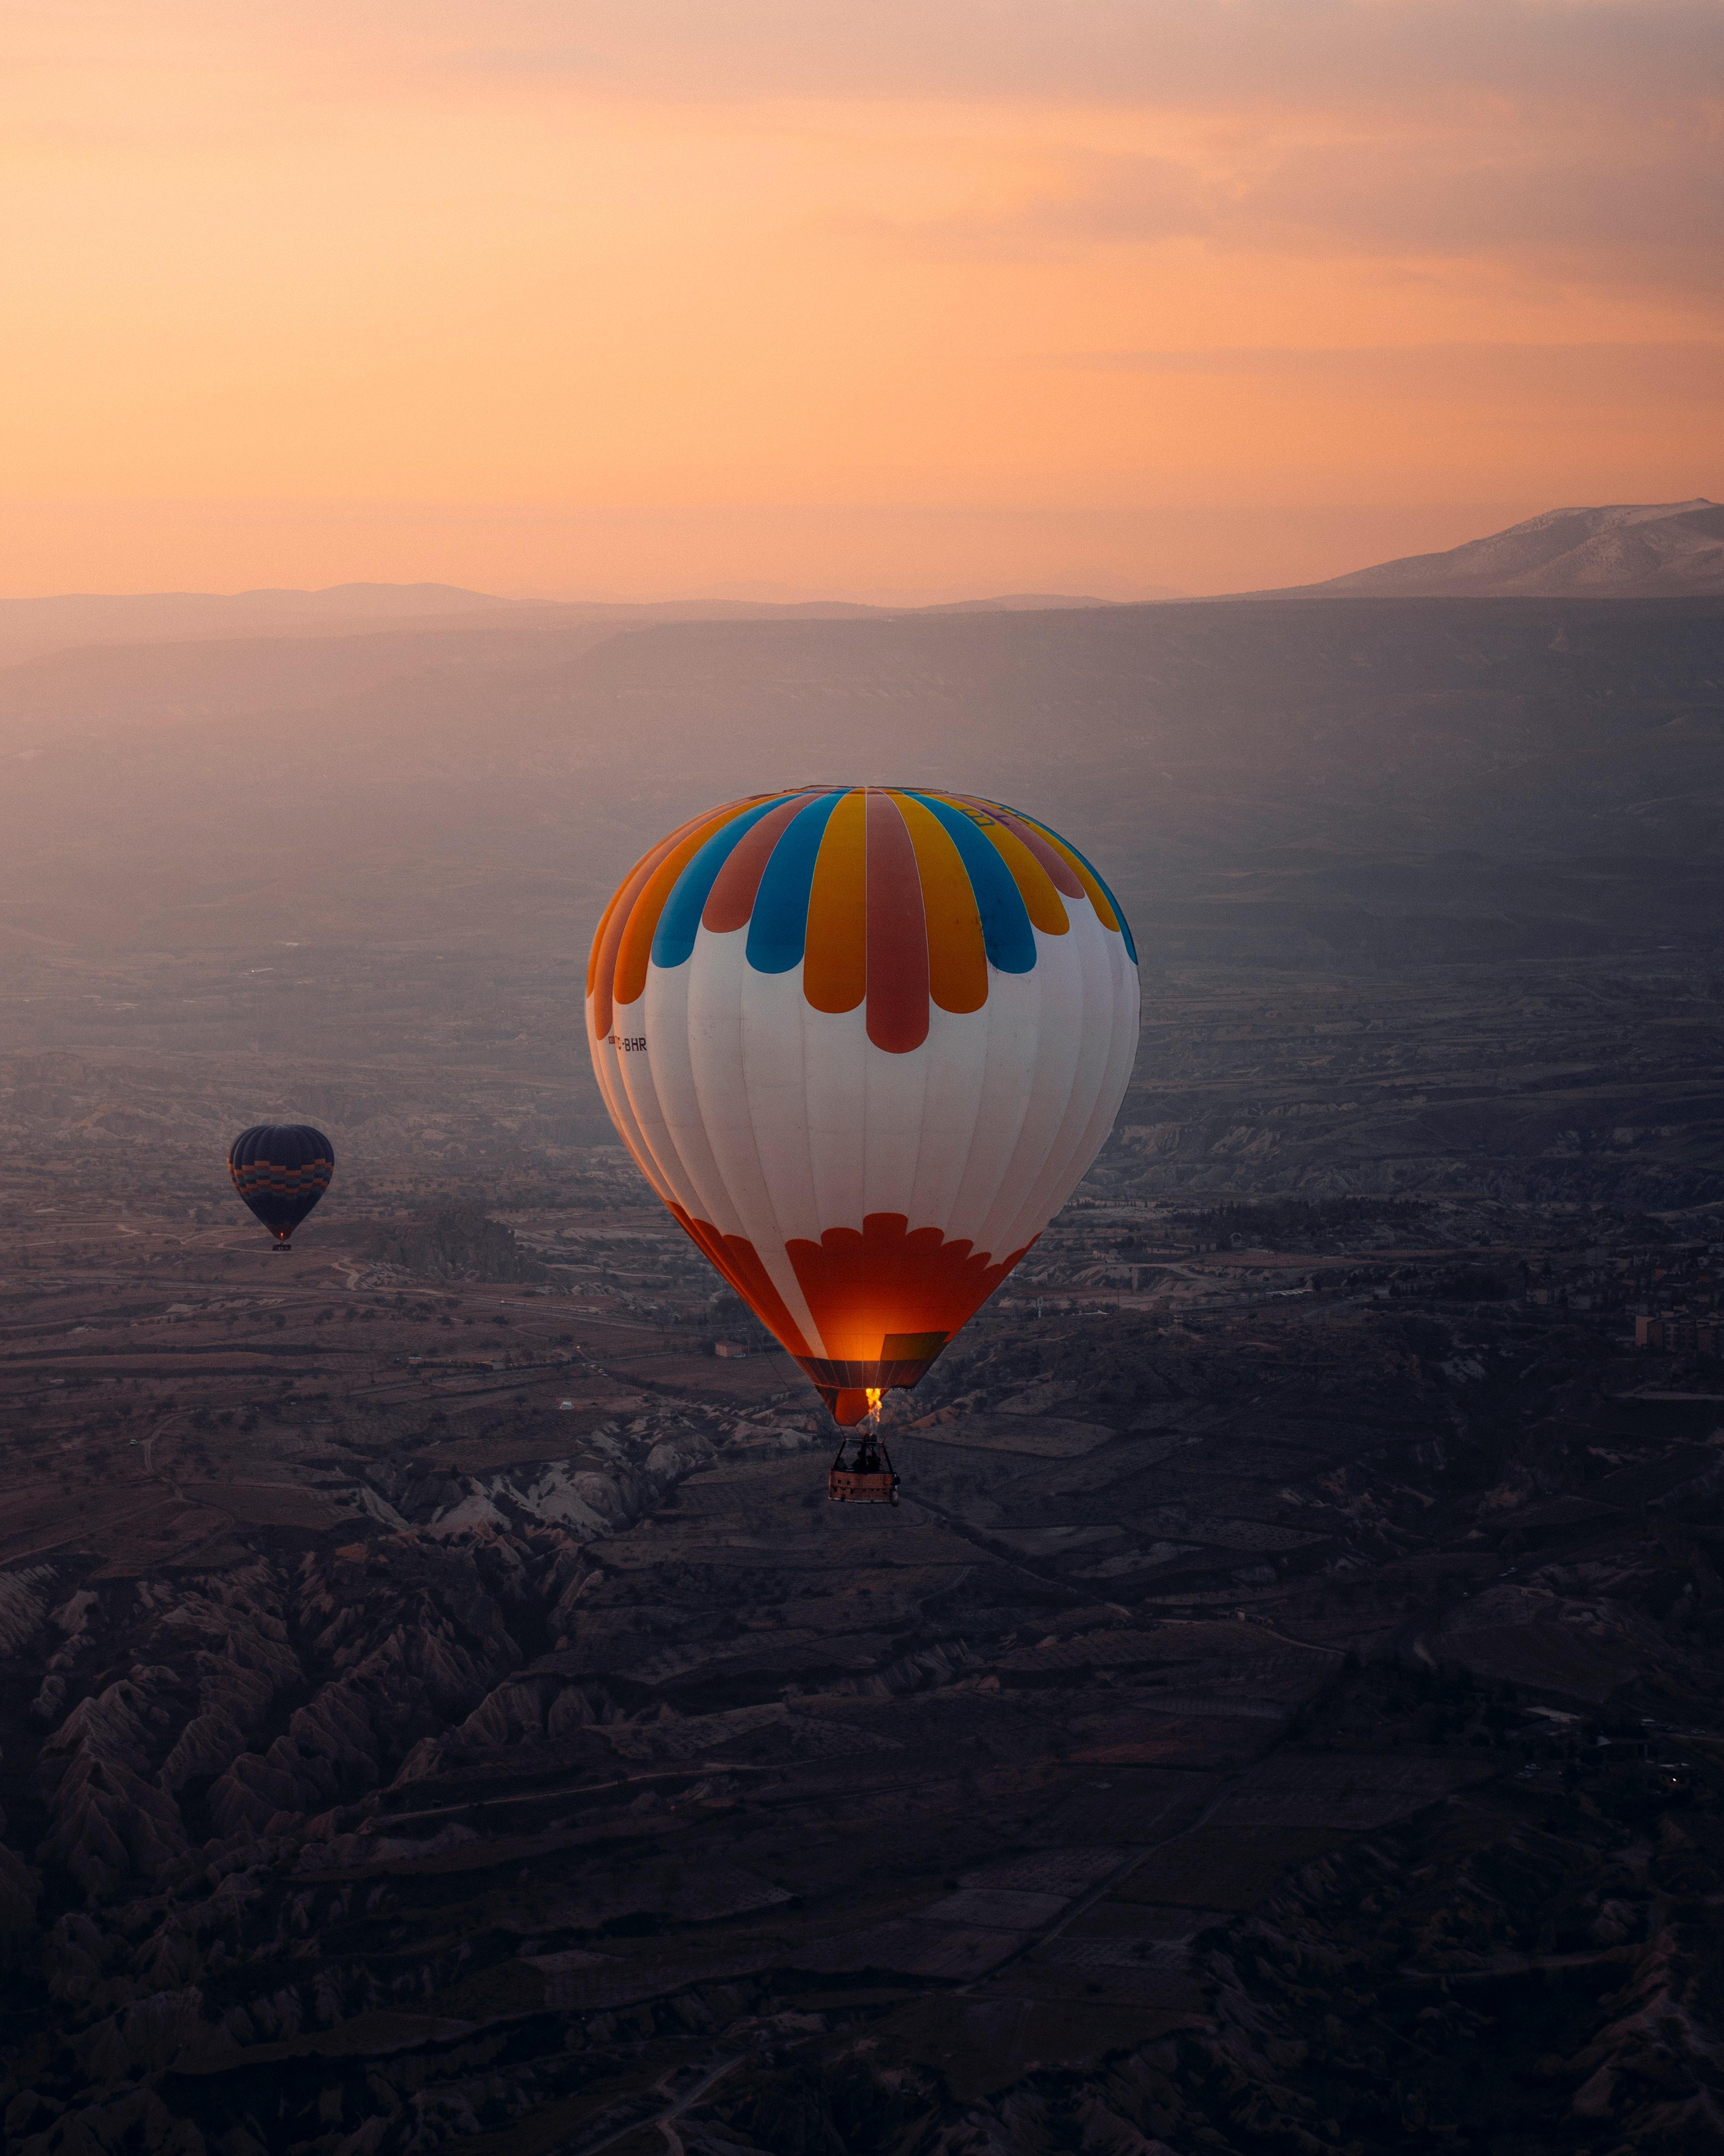hot air ballon: (581, 779, 1145, 1502), (225, 1124, 336, 1252)
